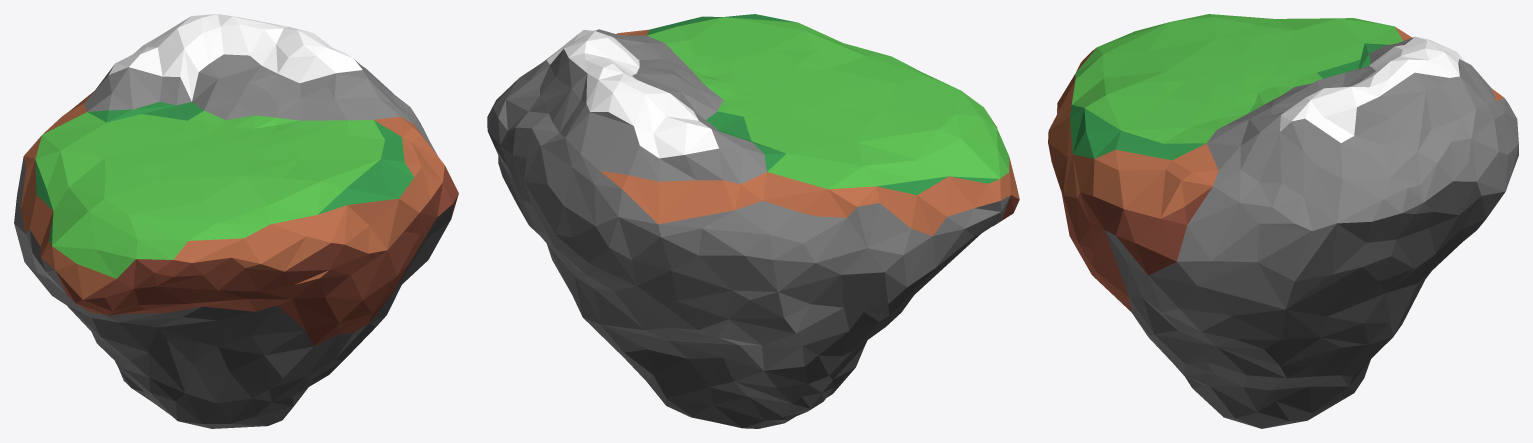
The model's file is Platform1.glb.
3 views of the same model, side by side, from view 1: azimuth 30°, elevation 25°; view 2: azimuth 150°, elevation 25°; view 3: azimuth 270°, elevation 25° (orthographic). The views are drawn at different scales.
Parts seen in each view (by area): view 1: Icosphere; view 2: Icosphere; view 3: Icosphere.
Boxes of the visible parts, x1,y1,x2,y2 form: Icosphere: (14,14,458,428); Icosphere: (487,14,1019,428); Icosphere: (1048,14,1518,428).
Bounding box in the file's own units: 25.71 × 21.22 × 23.17.
Materials: 1 (1 with a texture image).
